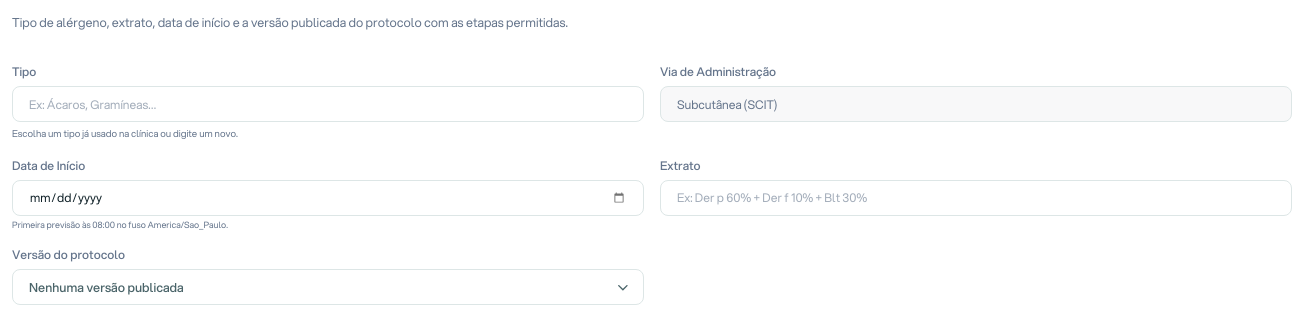
Test: tipos de imunoterapia pela fonte do servidor › wizard: filtra as sugestões e aceita um tipo novo digitado
This screenshot has width=1304, height=322.
Click the dropdown with placeholder "Ex: Ácaros, Gramíneas…" at point(328, 104), box [12,86,644,122]
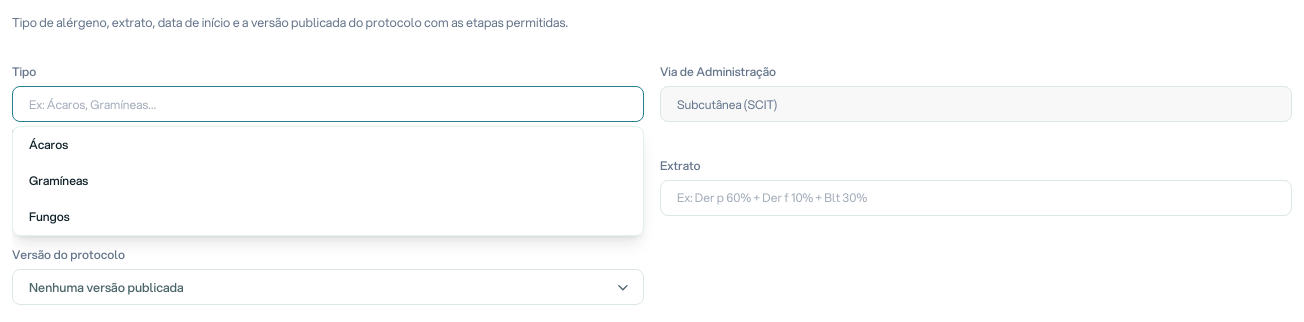
Result: the option "Ácaros" is shown at [13,127,643,163]
Type "Gram" into the dropdown with placeholder "Ex: Ácaros, Gramíneas…" at point(328, 104), box [12,86,644,122]
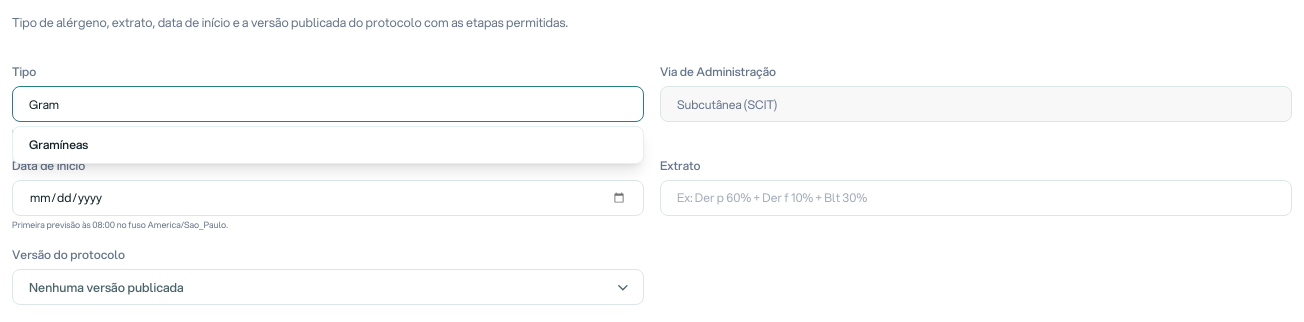
Result: the option "Gramíneas" is shown at [13,127,643,163]
Result: the option "Ácaros" is gone
Replace the text in the 1st dropdown with placeholder "Ex: Ácaros, Gramíneas…" with "Pólen" at point(328, 104), box [12,86,644,122]
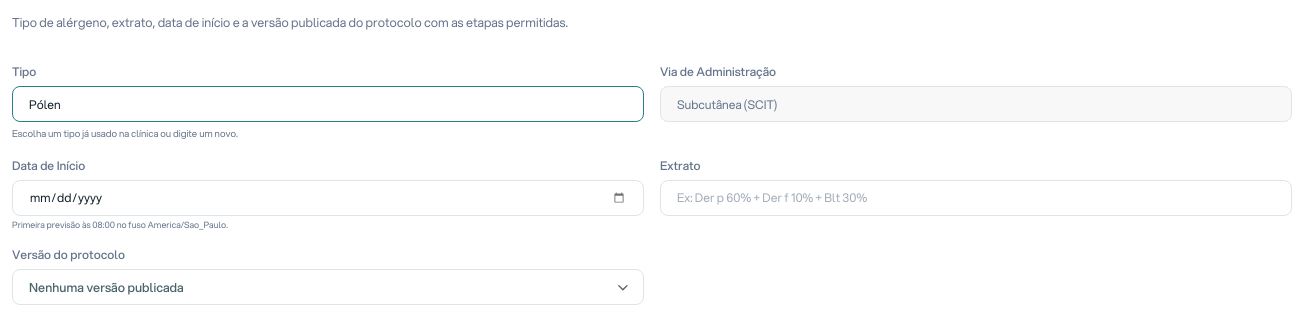
Result: the list is gone
